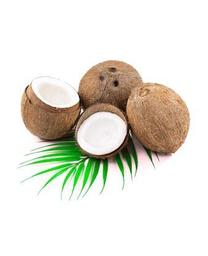coconut: (124, 82, 189, 155), (20, 77, 79, 142), (77, 61, 143, 117), (74, 100, 128, 160)
